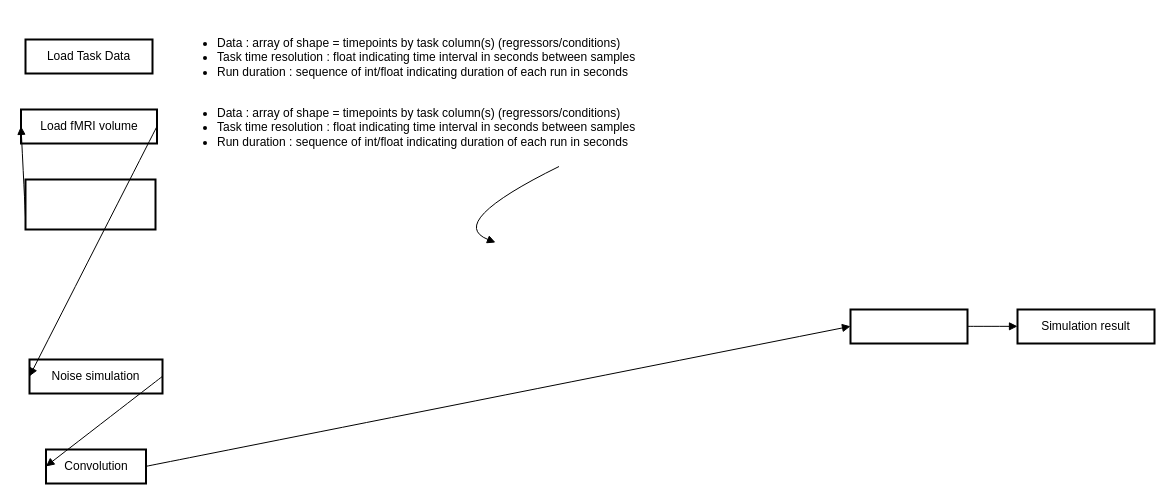
Some shapes in this 1173 by 501 pixel diagram are drawn without their labels. Each missing label, with the box of its shape:
Downsampling: (849, 308, 968, 344)
Downsampling to TR resolution + Timeshift: (24, 178, 156, 230)
